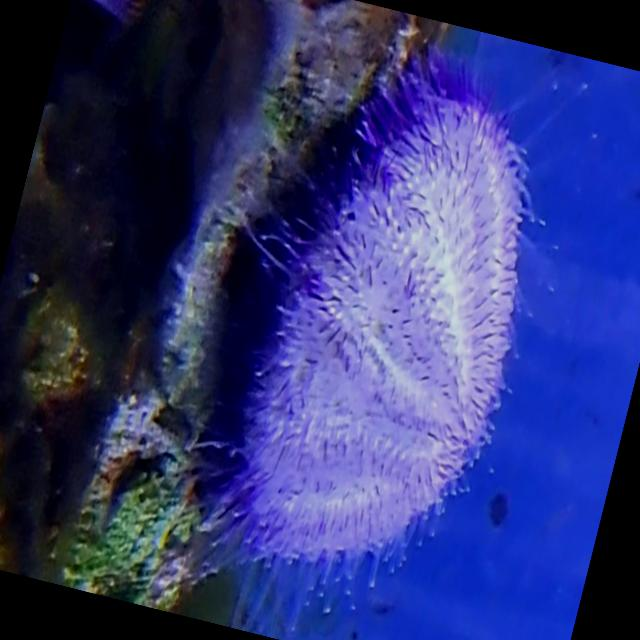Deniz Kestanesi: (169, 17, 584, 640)
